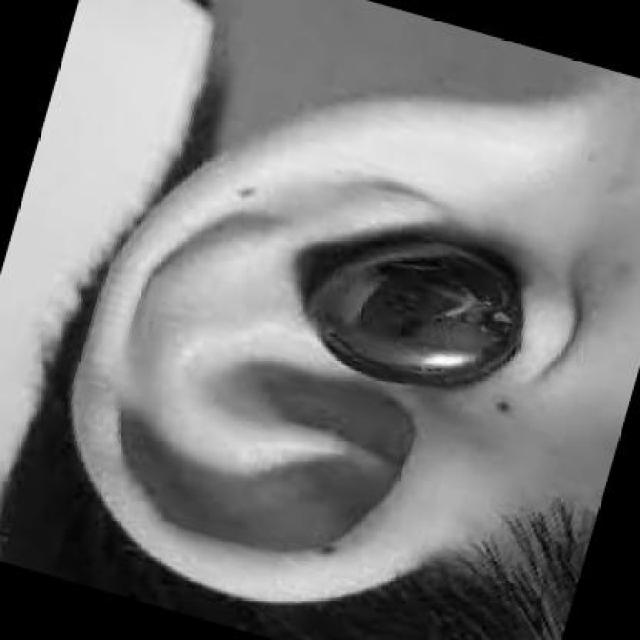earphone: (328, 204, 557, 386)
